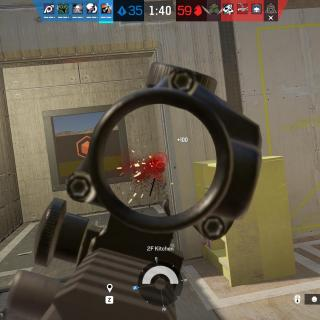Character: (154, 160, 170, 217)
